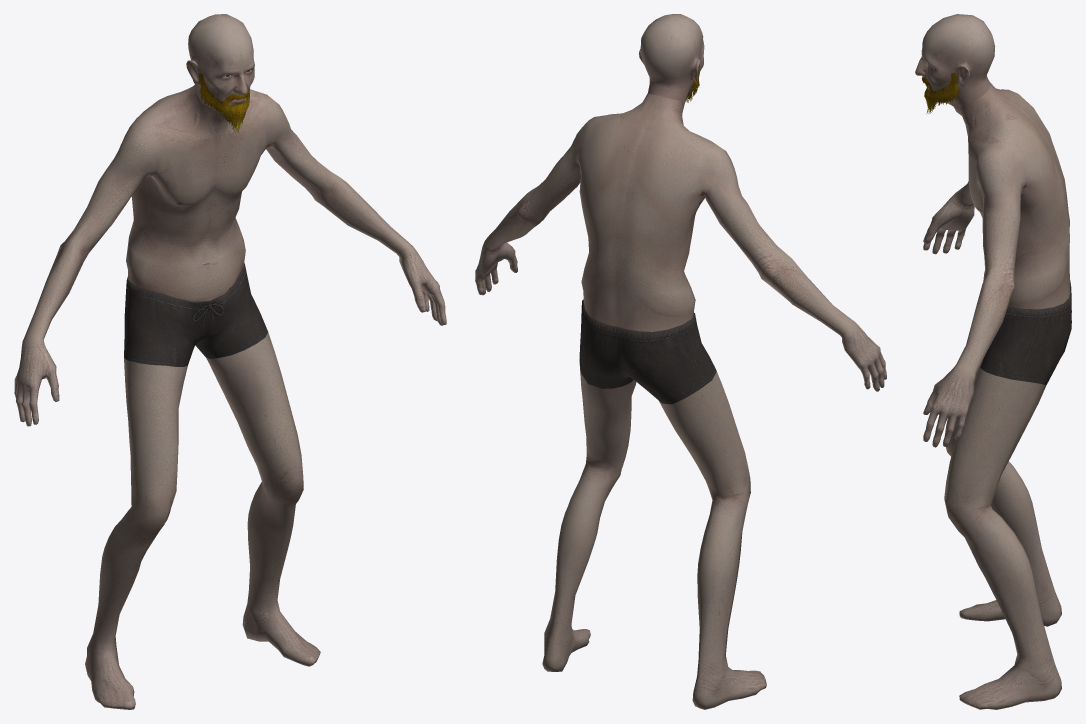
The model's file is OldManNoPlane.obj.
The picture shows the model from 3 angles, left to right: view 1: azimuth 30°, elevation 25°; view 2: azimuth 150°, elevation 25°; view 3: azimuth 270°, elevation 25°; orthographic projection. The views are drawn at different scales.
Parts seen in each view (by area): view 1: Body, Shorts, Face, Beard2; view 2: Body, Shorts, Face; view 3: Body, Shorts, Face, Beard2.
Part boxes in pixels (x1=…): Body: x1=14, y1=84, x2=446, y2=709; Shorts: x1=124, y1=263, x2=267, y2=366; Face: x1=186, y1=14, x2=254, y2=112; Beard2: x1=198, y1=73, x2=249, y2=132; Body: x1=475, y1=93, x2=886, y2=709; Shorts: x1=579, y1=299, x2=716, y2=404; Face: x1=639, y1=14, x2=704, y2=102; Body: x1=923, y1=82, x2=1070, y2=709; Shorts: x1=980, y1=280, x2=1071, y2=384; Face: x1=915, y1=14, x2=995, y2=107; Beard2: x1=922, y1=73, x2=958, y2=113.
Bounding box in the file's own units: 119 × 182 × 40.06.
Materials: 5 (5 with a texture image).
